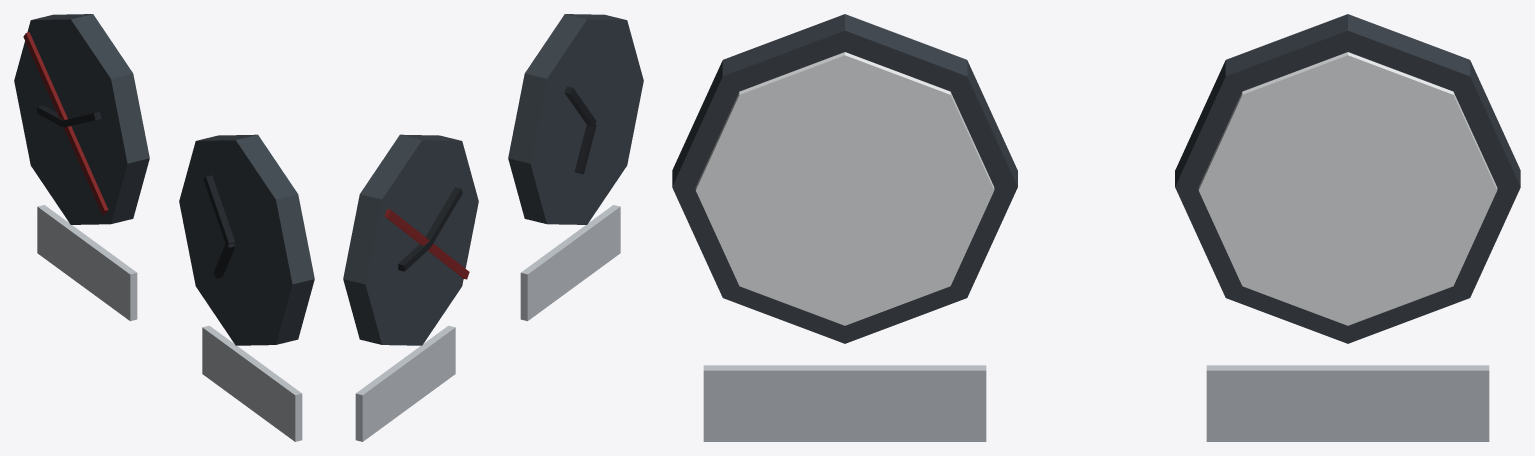
Rendered from egg_carrier_clocks.fbx.
3 renders of one model, left to right at view 1: azimuth 30°, elevation 25°; view 2: azimuth 150°, elevation 25°; view 3: azimuth 270°, elevation 25°, orthographic. The views are drawn at different scales.
Visible parts, largest first — view 1: egg_carrier_clocks; view 2: egg_carrier_clocks; view 3: egg_carrier_clocks.
Boxes of the visible parts, x1,y1,x2,y2 form: egg_carrier_clocks: (14,14,314,441); egg_carrier_clocks: (343,14,643,441); egg_carrier_clocks: (672,14,1520,441).
Size of the model in its own units: 39 by 290 by 540.
